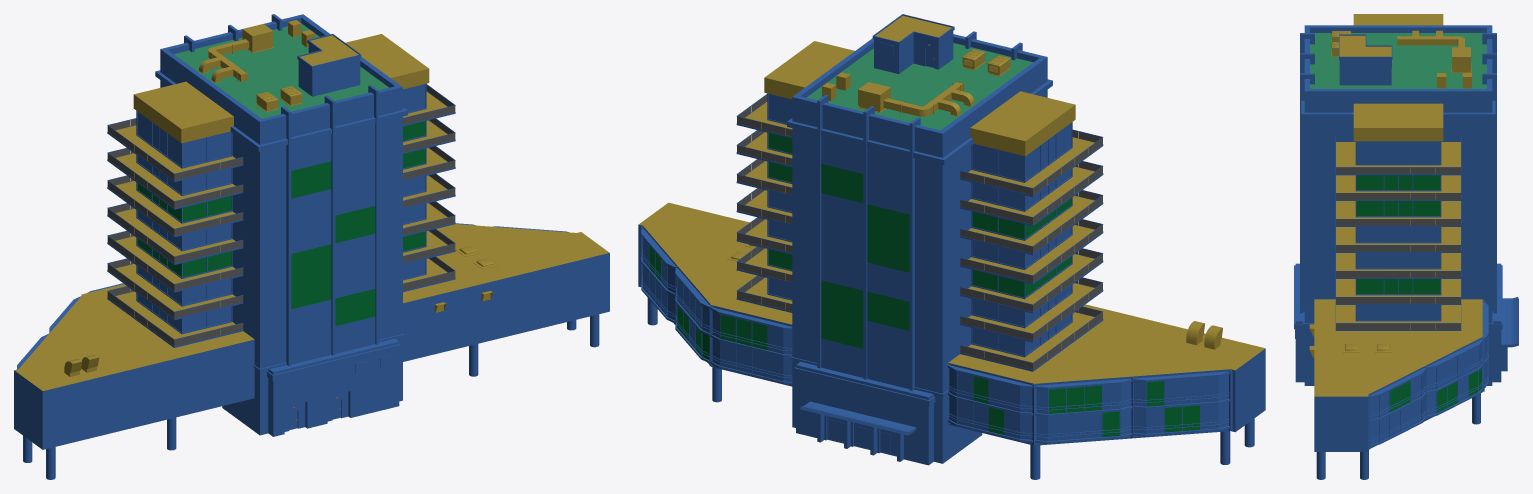
The model's file is mcp_building_01_LOD_0.FBX.
3 views of the same model, side by side, from view 1: azimuth 30°, elevation 25°; view 2: azimuth 150°, elevation 25°; view 3: azimuth 270°, elevation 25° (orthographic). The views are drawn at different scales.
Parts seen in each view (by area): view 1: mcp_building_01, mcp_building_01_concrete, mcp_building_01_glass_02, mcp_building_01_rooftop, mcp_building_01_props_01; view 2: mcp_building_01, mcp_building_01_concrete, mcp_building_01_glass_02, mcp_building_01_rooftop, mcp_building_01_props_01; view 3: mcp_building_01, mcp_building_01_concrete, mcp_building_01_glass_02, mcp_building_01_rooftop, mcp_building_01_props_01.
Boxes of the visible parts, x1,y1,x2,y2 form: mcp_building_01: (14, 14, 609, 479); mcp_building_01_concrete: (14, 34, 609, 390); mcp_building_01_glass_02: (107, 85, 455, 346); mcp_building_01_rooftop: (174, 23, 388, 118); mcp_building_01_props_01: (64, 20, 497, 420); mcp_building_01: (638, 14, 1265, 479); mcp_building_01_concrete: (638, 15, 1264, 383); mcp_building_01_glass_02: (737, 45, 1102, 369); mcp_building_01_rooftop: (806, 43, 1032, 130); mcp_building_01_props_01: (727, 49, 1222, 349); mcp_building_01: (1294, 25, 1518, 479); mcp_building_01_concrete: (1314, 14, 1482, 396); mcp_building_01_glass_02: (1336, 167, 1460, 329); mcp_building_01_rooftop: (1310, 33, 1486, 88); mcp_building_01_props_01: (1309, 30, 1471, 357).
Bounding box in the file's own units: 9207 × 5250 × 3360.
